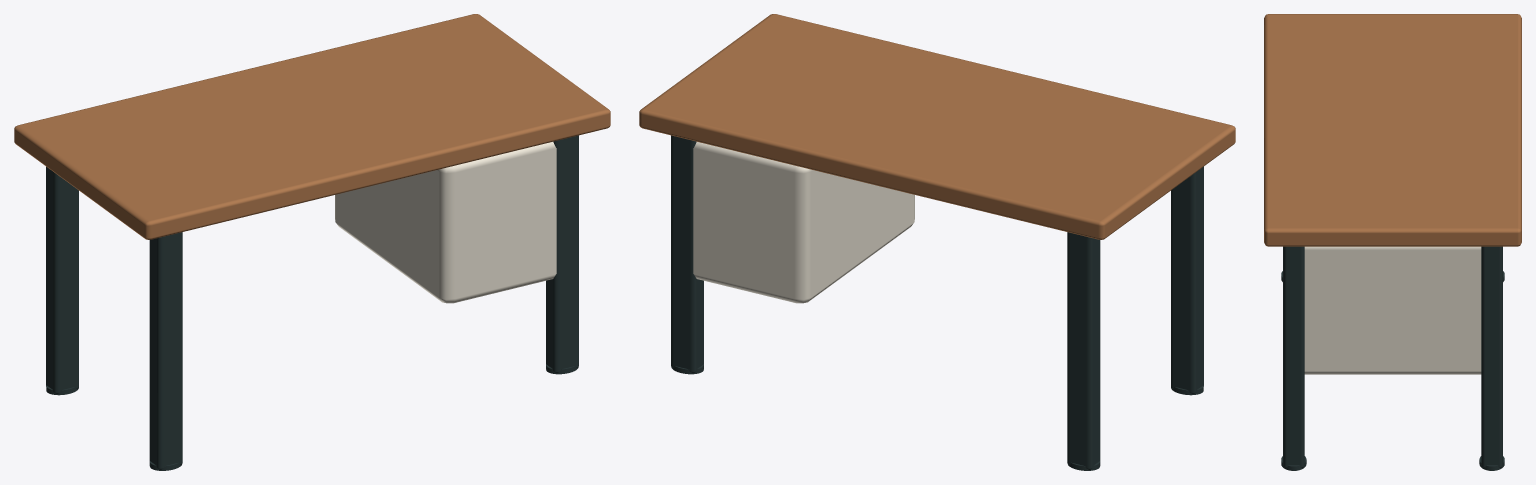
Rendered from wp-bureau-individuel.glb.
3 renders of one model, left to right at view 1: azimuth 30°, elevation 25°; view 2: azimuth 150°, elevation 25°; view 3: azimuth 270°, elevation 25°, orthographic. The views are drawn at different scales.
Parts seen in each view (by area): view 1: wp-bureau-individuel; view 2: wp-bureau-individuel; view 3: wp-bureau-individuel.
Boxes of the visible parts, left/top/right/bottom form: wp-bureau-individuel: left=14, top=14, right=610, bottom=470; wp-bureau-individuel: left=639, top=14, right=1235, bottom=470; wp-bureau-individuel: left=1264, top=14, right=1521, bottom=470.
Bounding box in the file's own units: 1.4 × 0.75 × 0.7.
